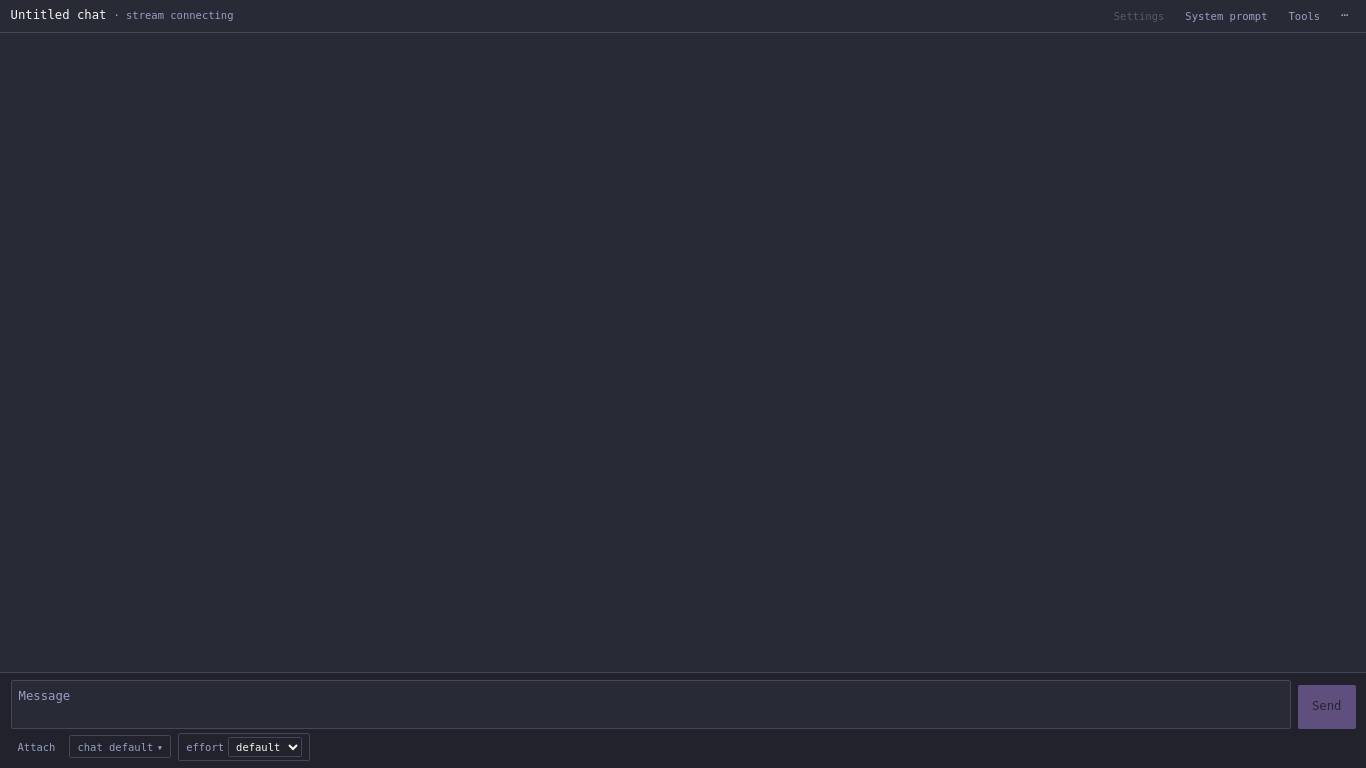
Test: Tools panel and header › warns when the client is offline
Click the button "Tools".
click(1304, 16)  # box [1282, 5, 1327, 26]
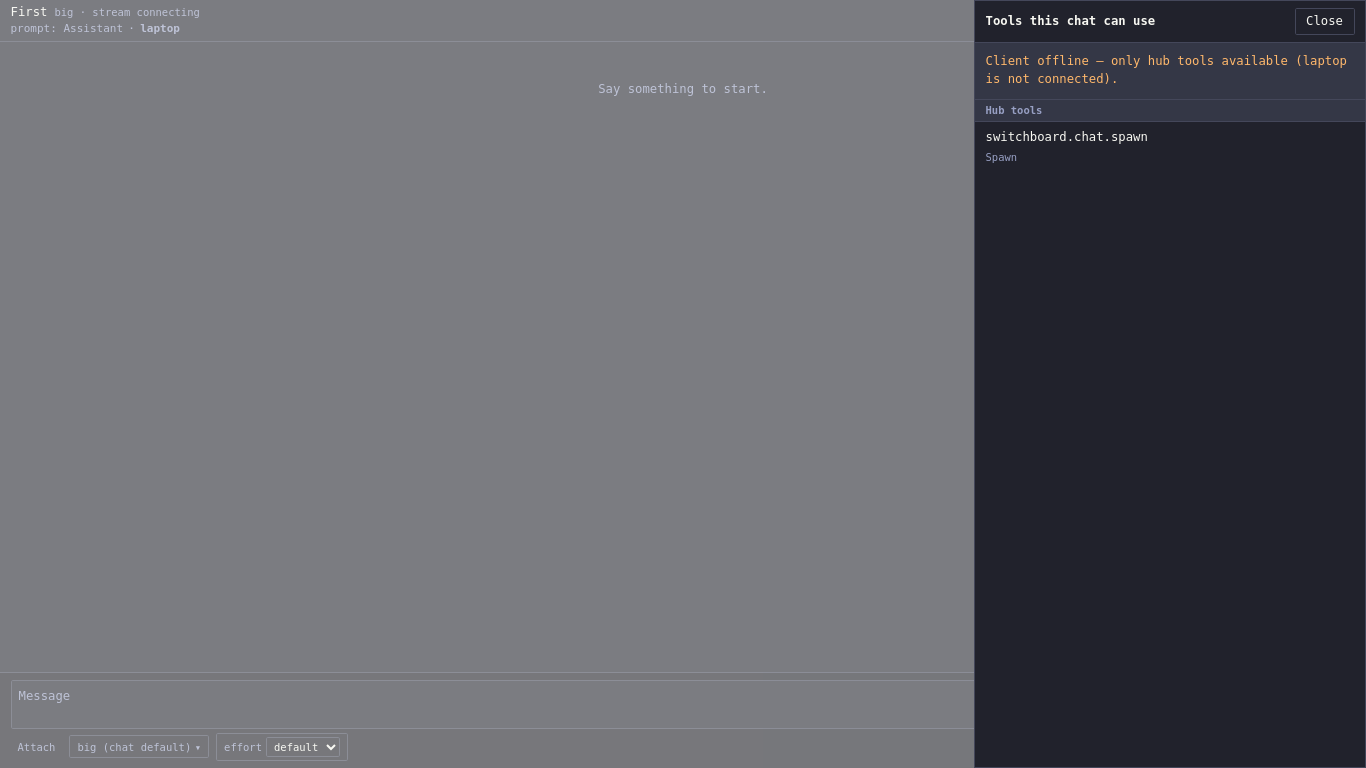
Now the message shows "Client offline", box [986, 54, 1288, 68]
